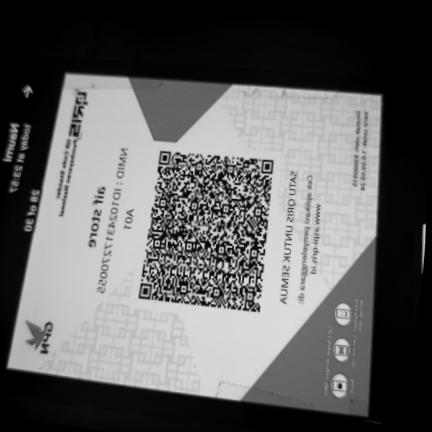Cara Pakai QRIS: (318, 288, 371, 414)
Cek Aplikasi Penyelenggara: (293, 166, 326, 316)
Dicetak Oleh: (346, 104, 362, 196)
Logo GPN: (14, 310, 61, 362)
Logo dan deskripsi QRIS: (44, 82, 95, 234)
Nama Merchant: (82, 181, 109, 252)
National Merchant ID: (91, 143, 132, 298)
QR Code: (133, 145, 277, 319)
Slogan: (273, 164, 302, 313)
Terminal ID: (121, 203, 137, 234)
Versi Cetak: (359, 106, 371, 197)
